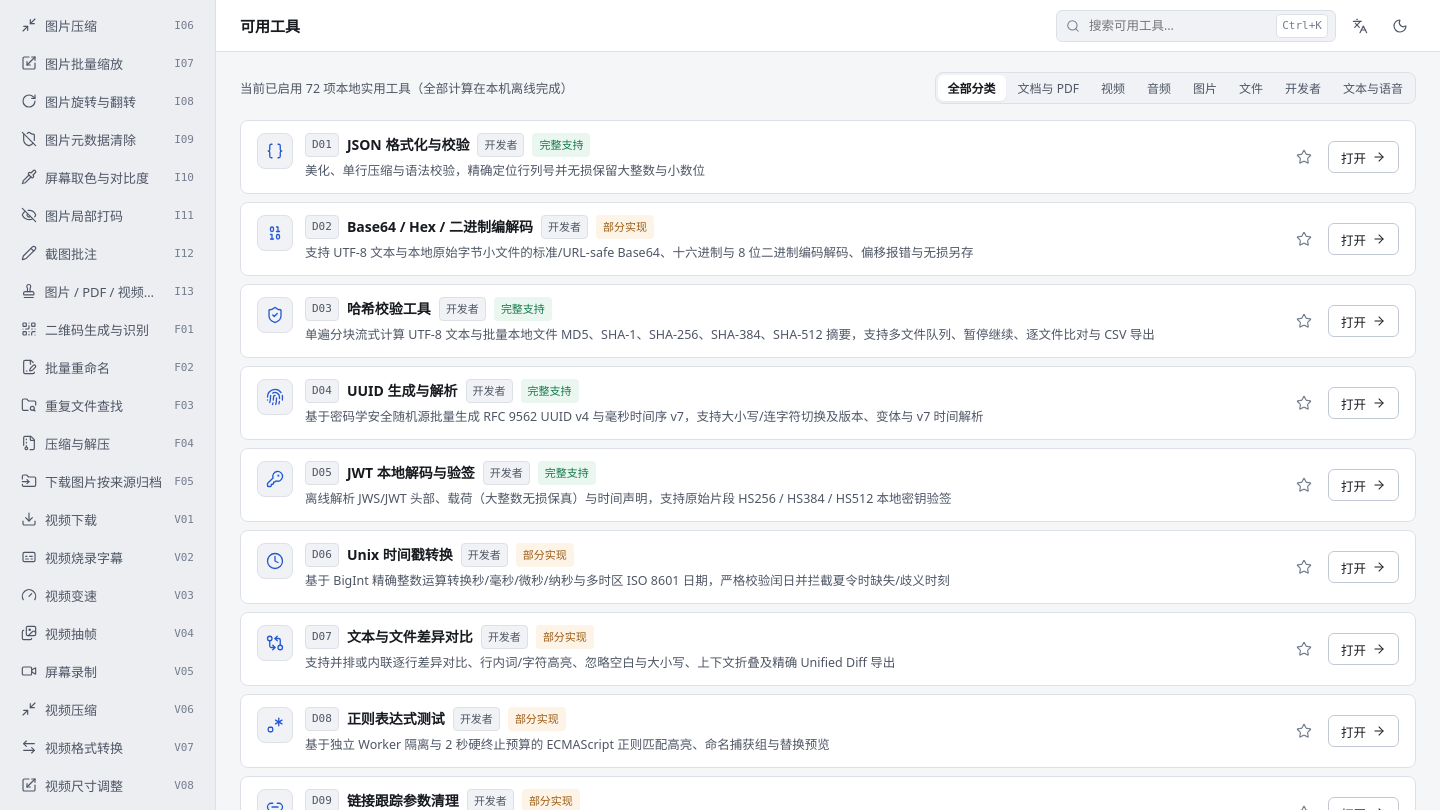
Test case: F03 FindDuplicatesWorkspace UI › preserves live duplicate scan progress when switching to another tool and returning
Later steps or results of the test are not shown.
(page scrolled)
Click the button "重复文件查找 F03" at (108, 405), box [8,388,207,422]
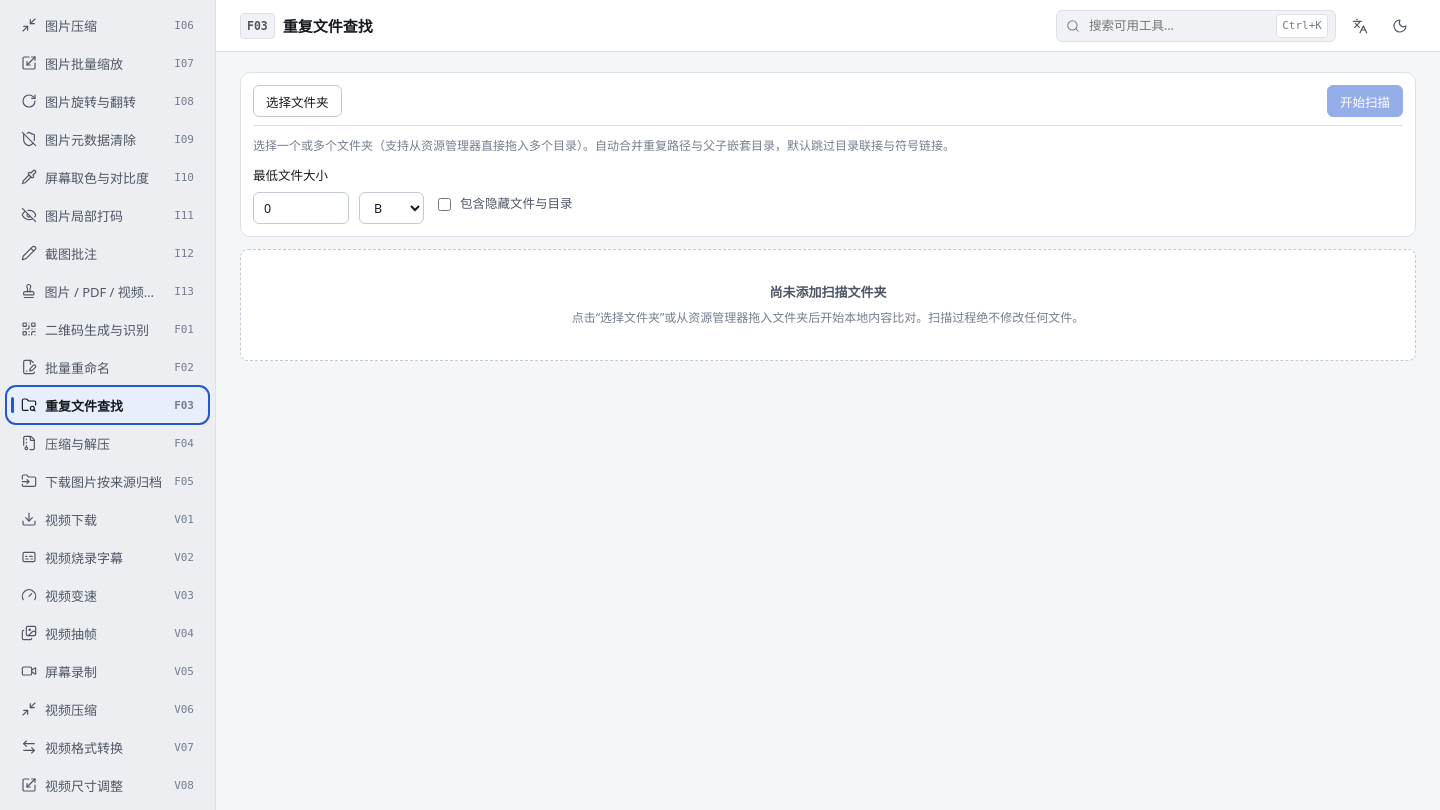
Click the button "选择文件夹" at (297, 101), box [253,85,342,117]
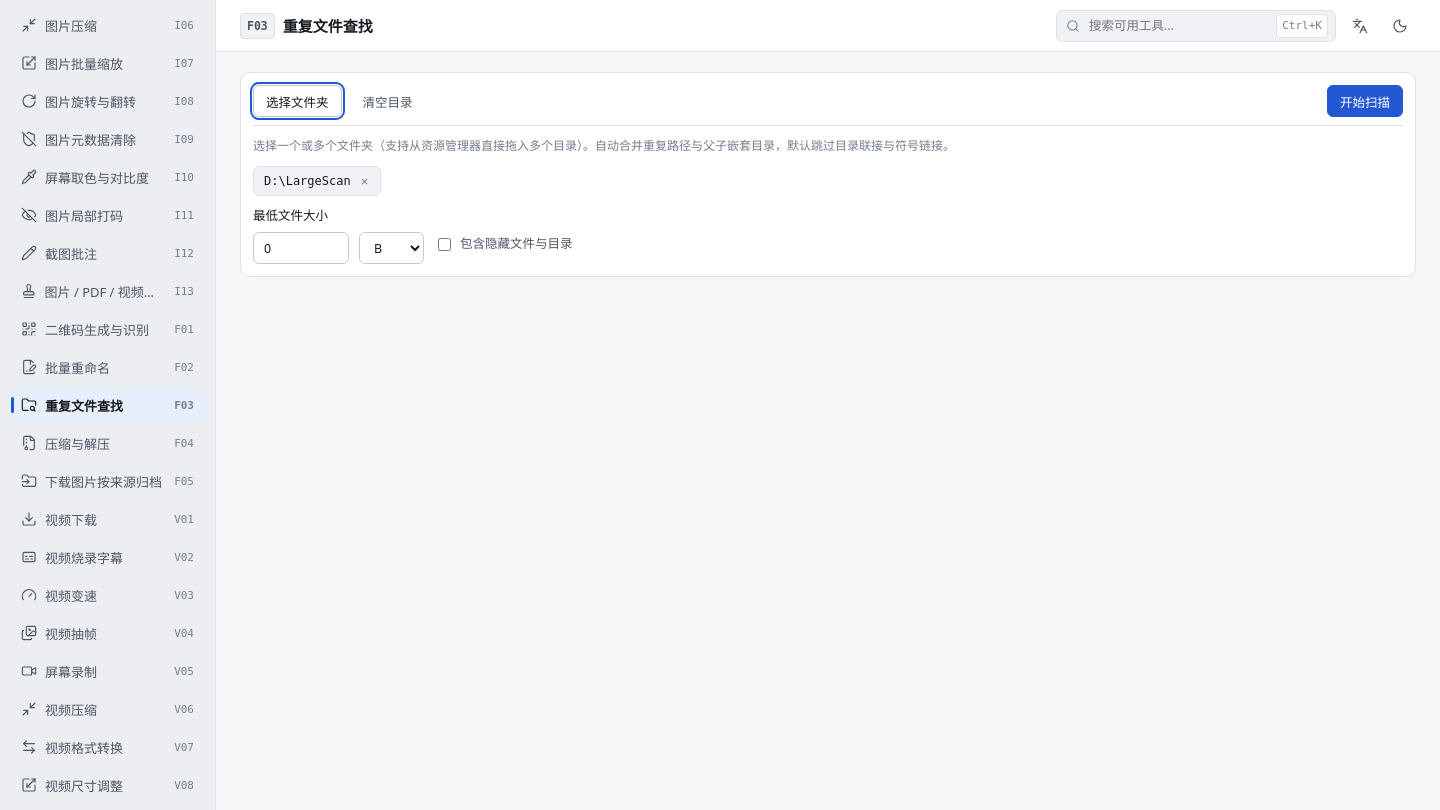
Click the button "开始扫描" at (1365, 101), box [1327,85,1403,117]
(page scrolled)
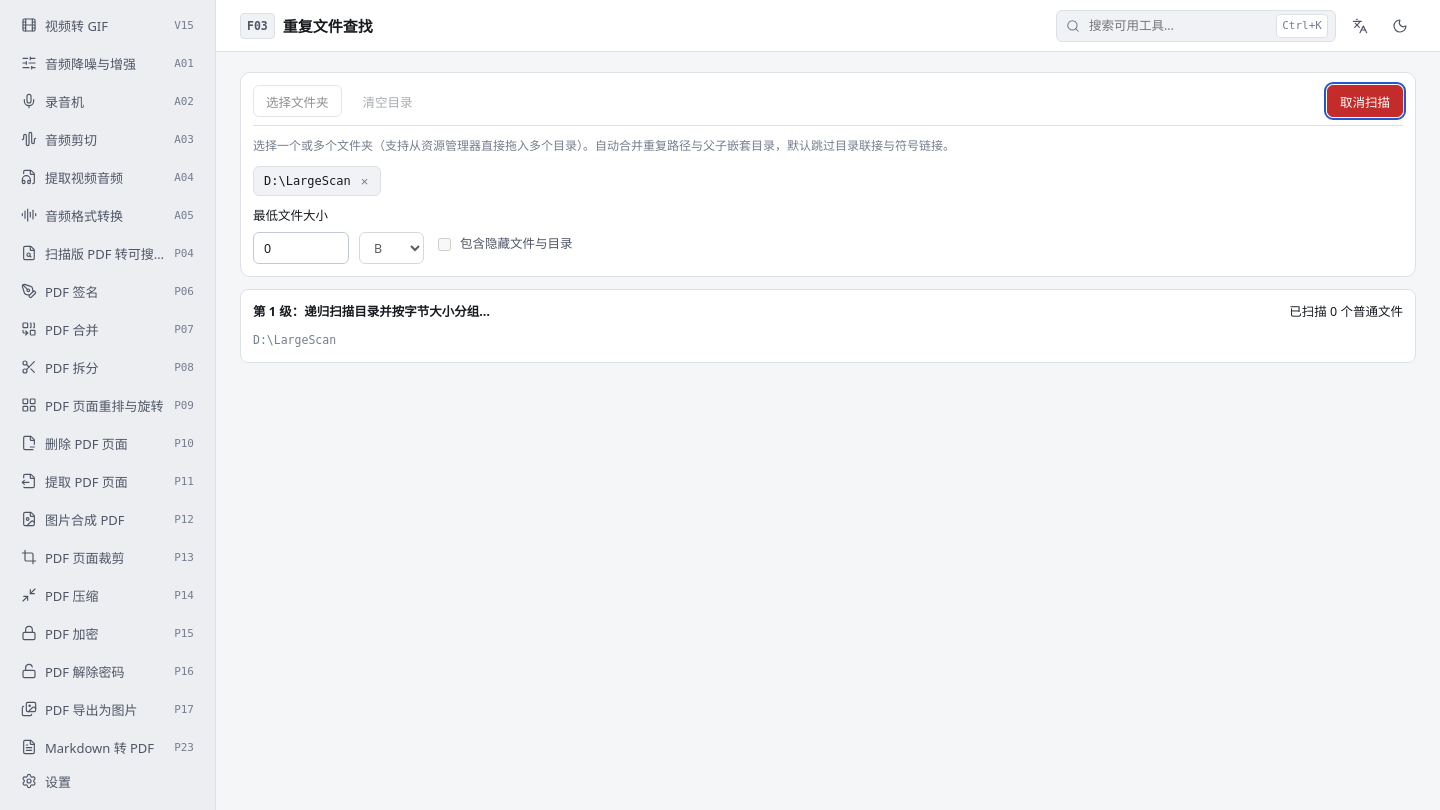
Check: the button "取消扫描" is shown, box [1327,85,1403,117]
Click the button "设置" at (108, 781), box [8,764,207,798]
(page scrolled)
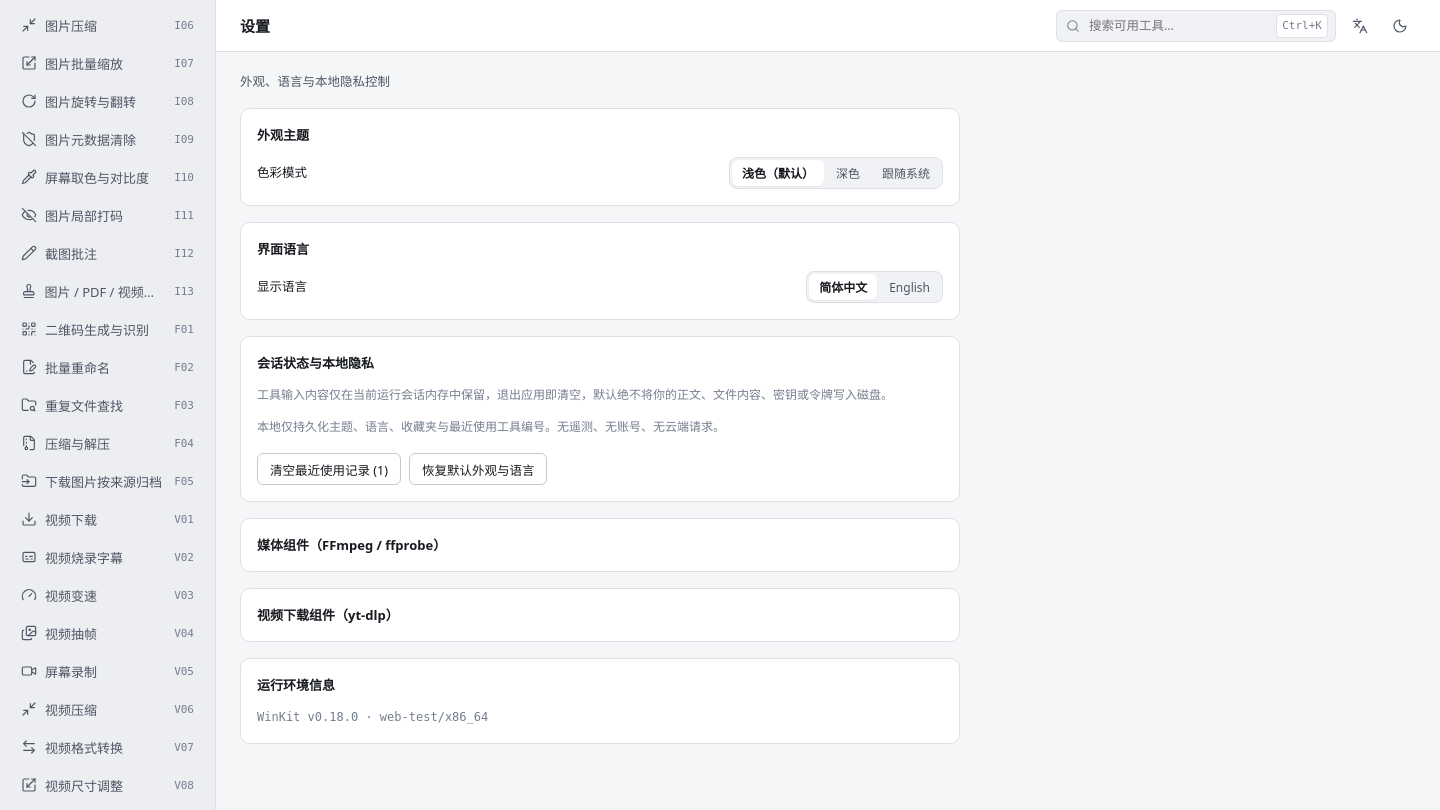
Check: the heading "设置" is shown, box [240,16,270,36]
Check: the button "取消扫描" is gone
Click the button "重复文件查找 F03" at (108, 405), box [8,388,207,422]
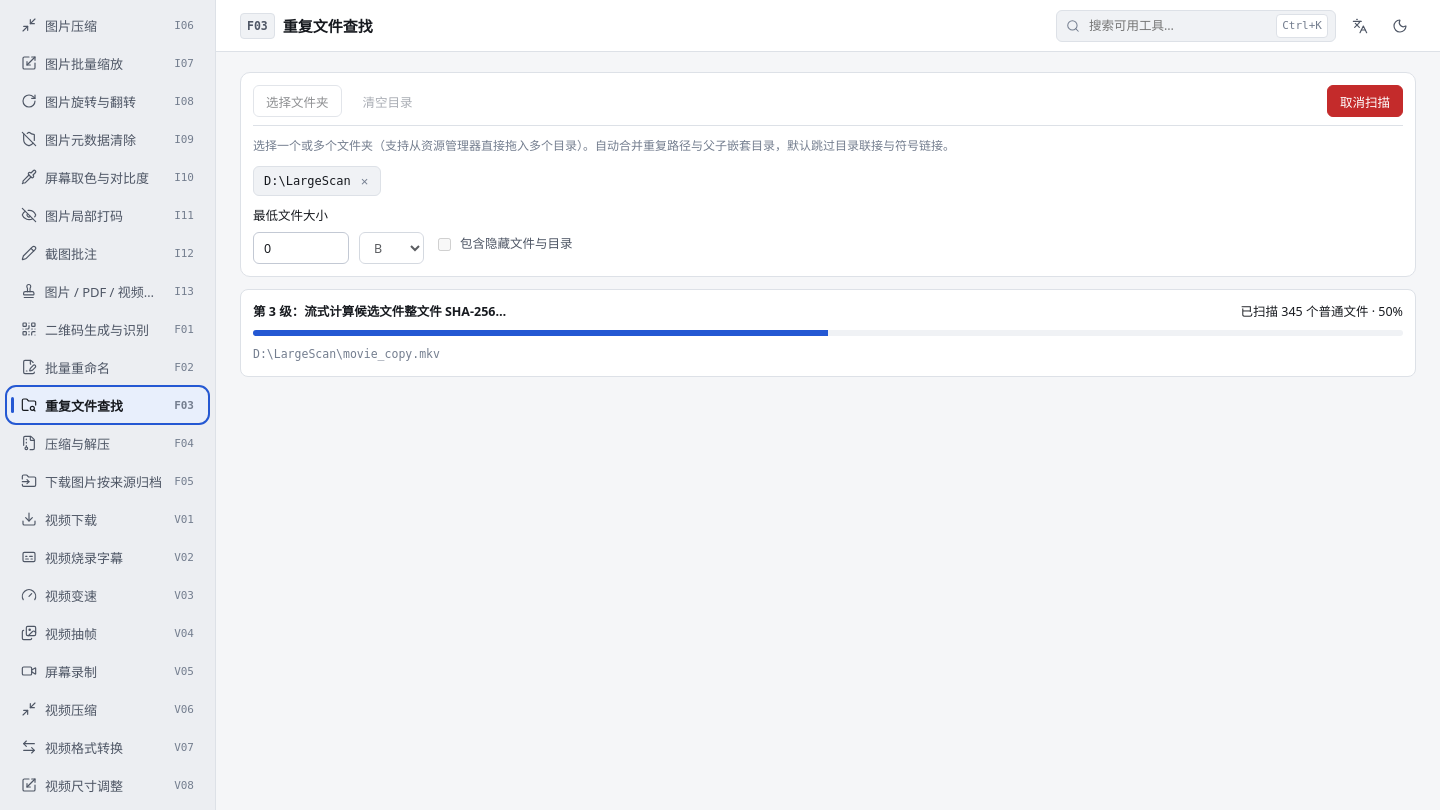
Check: the text "已扫描 345 个普通文件 · 50%" is shown, box [1240,302,1403,322]
Check: the text "D:\\LargeScan\\movie_copy.mkv" is shown, box [253,347,440,361]
